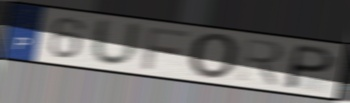6: (48, 16, 87, 61)
F: (140, 25, 192, 71)
O: (188, 32, 242, 82)
P: (281, 43, 339, 91)
R: (236, 35, 287, 89)
U: (89, 16, 145, 70)
